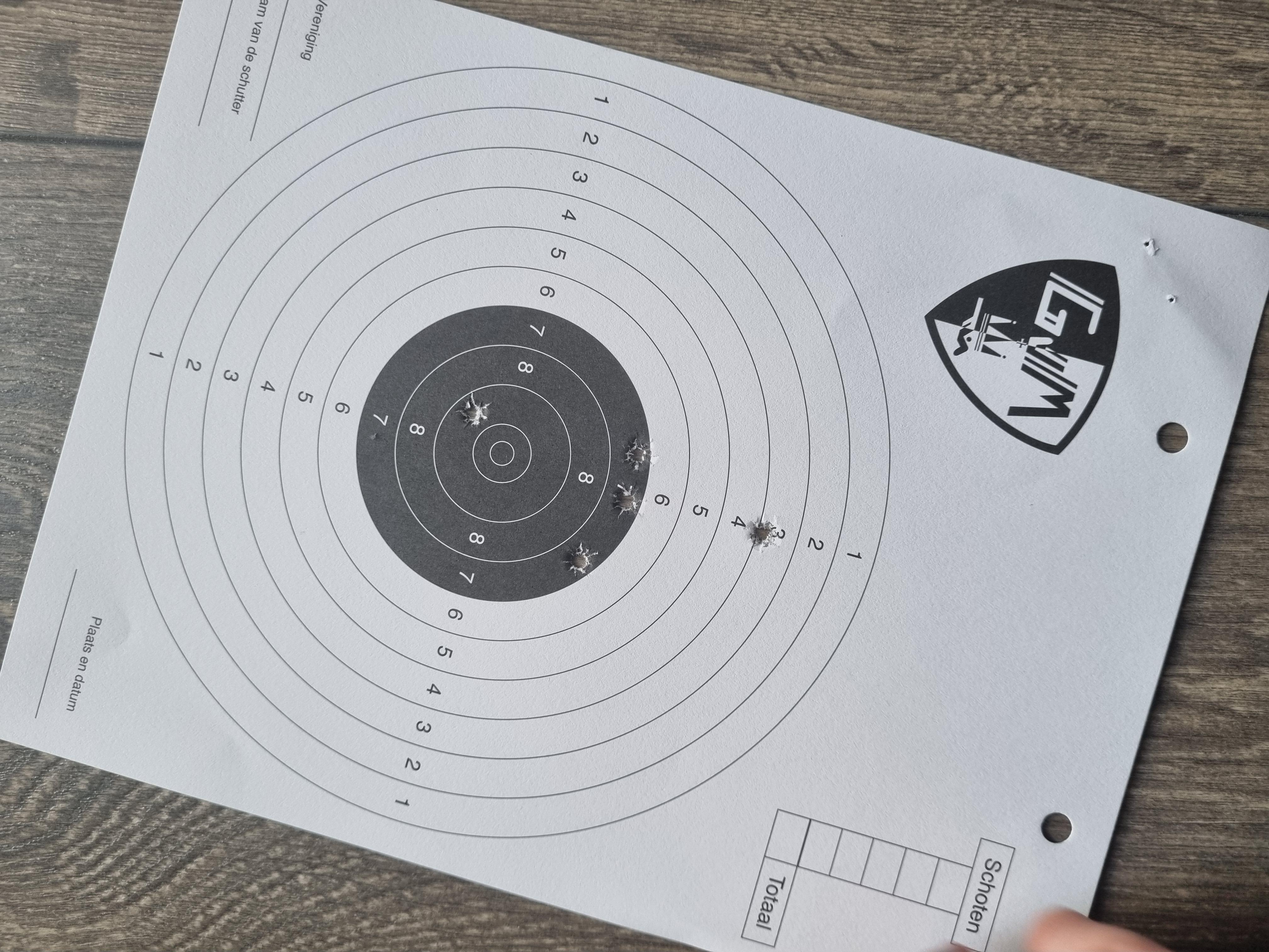hole: (638, 467, 691, 494), (697, 342, 747, 369), (498, 423, 544, 449), (533, 559, 579, 584), (578, 458, 622, 480)
